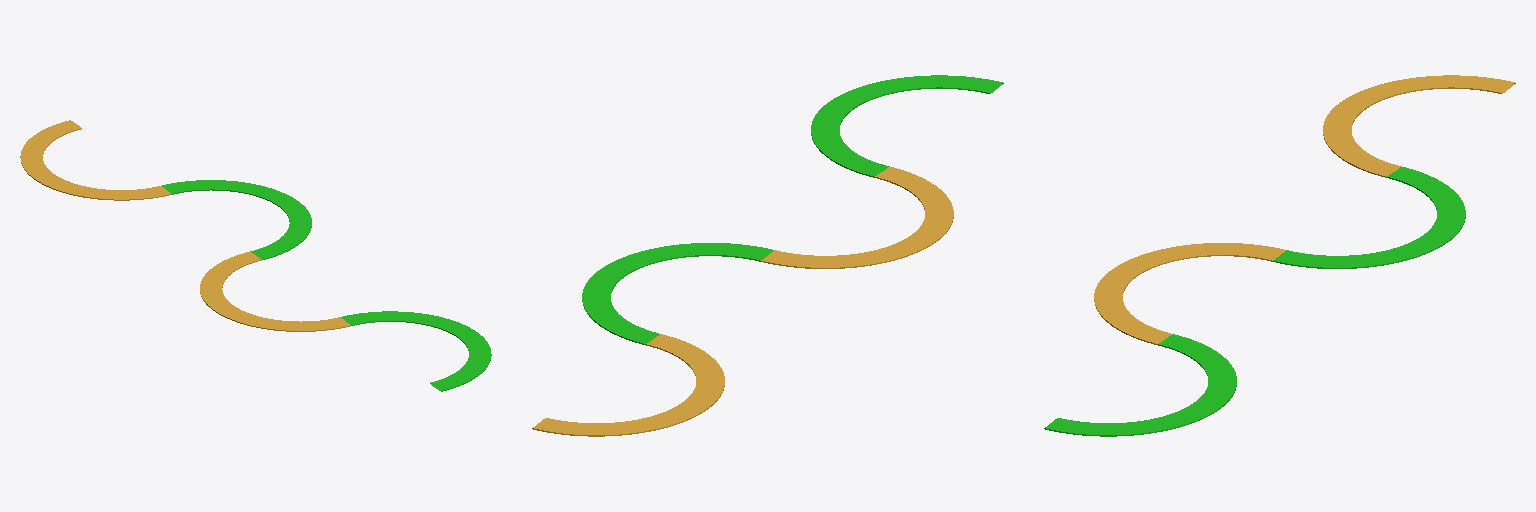
robot.urdf — double_s_wave_terrain:
<?xml version="1.0"?>
<robot name="double_s_wave_terrain">

  <!-- Base link (唯一的根节点) -->
  <link name="base_link">
    <inertial>
      <mass value="0.0"/>
      <inertia ixx="0.0" ixy="0.0" ixz="0.0" 
               iyy="0.0" iyz="0.0" izz="0.0"/>
    </inertial>
  </link>

  <!-- Segment 0: S1_Curve1_High, friction=0.90 -->
  <link name="segment_0_S1_Curve1_High">
    <visual>
      <origin xyz="0 0 0" rpy="0 0 0"/>
      <geometry>
        <mesh filename="double_s_wave_segment_S1_Curve1_High.obj" scale="1.0 1.0 1.0"/>
      </geometry>
      <material name="mat_0">
        <color rgba="0.2 0.8 0.2 1.0"/>
      </material>
    </visual>
    
    <collision>
      <origin xyz="0 0 0" rpy="0 0 0"/>
      <geometry>
        <mesh filename="double_s_wave_segment_S1_Curve1_High.obj" scale="1.0 1.0 1.0"/>
      </geometry>
      <contact>
        <lateral_friction value="0.9"/>
        <rolling_friction value="0.09000000000000001"/>
        <spinning_friction value="0.045000000000000005"/>
      </contact>
    </collision>
    
    <inertial>
      <mass value="0.0"/>
      <inertia ixx="0.0" ixy="0.0" ixz="0.0" 
               iyy="0.0" iyz="0.0" izz="0.0"/>
    </inertial>
  </link>
  
  <joint name="joint_0" type="fixed">
    <parent link="base_link"/>
    <child link="segment_0_S1_Curve1_High"/>
    <origin xyz="0 0 0" rpy="0 0 0"/>
  </joint>
  
  <!-- Segment 1: S1_Curve2_Low, friction=0.50 -->
  <link name="segment_1_S1_Curve2_Low">
    <visual>
      <origin xyz="0 0 0" rpy="0 0 0"/>
      <geometry>
        <mesh filename="double_s_wave_segment_S1_Curve2_Low.obj" scale="1.0 1.0 1.0"/>
      </geometry>
      <material name="mat_1">
        <color rgba="0.9 0.7 0.3 1.0"/>
      </material>
    </visual>
    
    <collision>
      <origin xyz="0 0 0" rpy="0 0 0"/>
      <geometry>
        <mesh filename="double_s_wave_segment_S1_Curve2_Low.obj" scale="1.0 1.0 1.0"/>
      </geometry>
      <contact>
        <lateral_friction value="0.5"/>
        <rolling_friction value="0.05"/>
        <spinning_friction value="0.025"/>
      </contact>
    </collision>
    
    <inertial>
      <mass value="0.0"/>
      <inertia ixx="0.0" ixy="0.0" ixz="0.0" 
               iyy="0.0" iyz="0.0" izz="0.0"/>
    </inertial>
  </link>
  
  <joint name="joint_1" type="fixed">
    <parent link="base_link"/>
    <child link="segment_1_S1_Curve2_Low"/>
    <origin xyz="0 0 0" rpy="0 0 0"/>
  </joint>
  
  <!-- Segment 2: S2_Curve1_High, friction=0.90 -->
  <link name="segment_2_S2_Curve1_High">
    <visual>
      <origin xyz="0 0 0" rpy="0 0 0"/>
      <geometry>
        <mesh filename="double_s_wave_segment_S2_Curve1_High.obj" scale="1.0 1.0 1.0"/>
      </geometry>
      <material name="mat_2">
        <color rgba="0.2 0.8 0.2 1.0"/>
      </material>
    </visual>
    
    <collision>
      <origin xyz="0 0 0" rpy="0 0 0"/>
      <geometry>
        <mesh filename="double_s_wave_segment_S2_Curve1_High.obj" scale="1.0 1.0 1.0"/>
      </geometry>
      <contact>
        <lateral_friction value="0.9"/>
        <rolling_friction value="0.09000000000000001"/>
        <spinning_friction value="0.045000000000000005"/>
      </contact>
    </collision>
    
    <inertial>
      <mass value="0.0"/>
      <inertia ixx="0.0" ixy="0.0" ixz="0.0" 
               iyy="0.0" iyz="0.0" izz="0.0"/>
    </inertial>
  </link>
  
  <joint name="joint_2" type="fixed">
    <parent link="base_link"/>
    <child link="segment_2_S2_Curve1_High"/>
    <origin xyz="0 0 0" rpy="0 0 0"/>
  </joint>
  
  <!-- Segment 3: S2_Curve2_Low, friction=0.50 -->
  <link name="segment_3_S2_Curve2_Low">
    <visual>
      <origin xyz="0 0 0" rpy="0 0 0"/>
      <geometry>
        <mesh filename="double_s_wave_segment_S2_Curve2_Low.obj" scale="1.0 1.0 1.0"/>
      </geometry>
      <material name="mat_3">
        <color rgba="0.9 0.7 0.3 1.0"/>
      </material>
    </visual>
    
    <collision>
      <origin xyz="0 0 0" rpy="0 0 0"/>
      <geometry>
        <mesh filename="double_s_wave_segment_S2_Curve2_Low.obj" scale="1.0 1.0 1.0"/>
      </geometry>
      <contact>
        <lateral_friction value="0.5"/>
        <rolling_friction value="0.05"/>
        <spinning_friction value="0.025"/>
      </contact>
    </collision>
    
    <inertial>
      <mass value="0.0"/>
      <inertia ixx="0.0" ixy="0.0" ixz="0.0" 
               iyy="0.0" iyz="0.0" izz="0.0"/>
    </inertial>
  </link>
  
  <joint name="joint_3" type="fixed">
    <parent link="base_link"/>
    <child link="segment_3_S2_Curve2_Low"/>
    <origin xyz="0 0 0" rpy="0 0 0"/>
  </joint>
  
</robot>

--- Render facts (derived) ---
3 views of the same robot in one strip: view 1: azimuth 30°, elevation 25°; view 2: azimuth 150°, elevation 25°; view 3: azimuth 330°, elevation 25° (orthographic).
Model double_s_wave_terrain with 5 links and 4 joints (4 fixed), rooted at base_link, posed all joints at 0.
Visible links, largest first — view 1: segment_1_S1_Curve2_Low, segment_3_S2_Curve2_Low, segment_0_S1_Curve1_High, segment_2_S2_Curve1_High; view 2: segment_3_S2_Curve2_Low, segment_1_S1_Curve2_Low, segment_0_S1_Curve1_High, segment_2_S2_Curve1_High; view 3: segment_0_S1_Curve1_High, segment_2_S2_Curve1_High, segment_3_S2_Curve2_Low, segment_1_S1_Curve2_Low.
Boxes of the visible links, <box> form: segment_1_S1_Curve2_Low: <box>200,252,350,331</box>; segment_3_S2_Curve2_Low: <box>20,120,171,200</box>; segment_0_S1_Curve1_High: <box>341,311,491,391</box>; segment_2_S2_Curve1_High: <box>162,180,311,259</box>; segment_3_S2_Curve2_Low: <box>532,334,724,436</box>; segment_1_S1_Curve2_Low: <box>761,167,953,268</box>; segment_0_S1_Curve1_High: <box>811,75,1003,177</box>; segment_2_S2_Curve1_High: <box>582,243,773,344</box>; segment_0_S1_Curve1_High: <box>1044,334,1236,436</box>; segment_2_S2_Curve1_High: <box>1273,167,1465,268</box>; segment_3_S2_Curve2_Low: <box>1323,75,1515,177</box>; segment_1_S1_Curve2_Low: <box>1094,243,1285,344</box>.
Size in the robot's own frame: 17.99 by 66 by 0.1 metres.
Meshes: 4 distinct files referenced, 4 mesh visuals loaded (4 OBJ).
